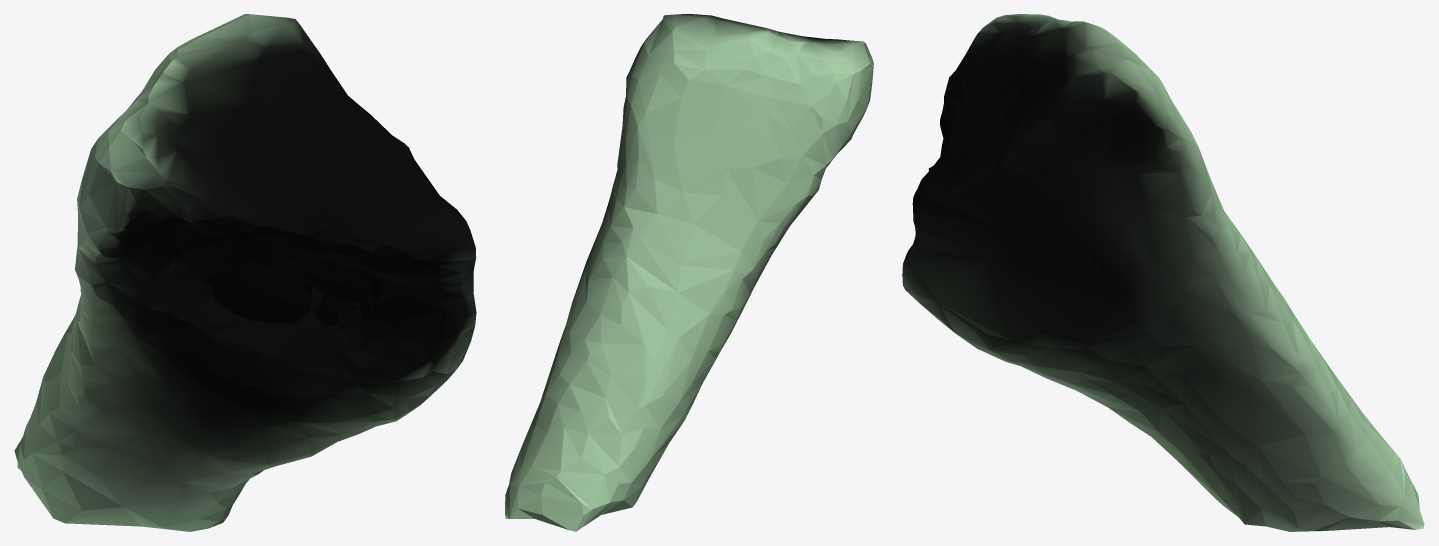
The model's file is Geometry12_lao.dae.
The picture shows the model from 3 angles, left to right: view 1: azimuth 30°, elevation 25°; view 2: azimuth 150°, elevation 25°; view 3: azimuth 270°, elevation 25°; orthographic projection. The views are drawn at different scales.
Visible parts, largest first — view 1: node; view 2: node; view 3: node.
Part boxes in pixels (bbox=[...]): node: bbox=[14, 14, 476, 531]; node: bbox=[505, 14, 873, 531]; node: bbox=[902, 14, 1424, 531].
Size of the model in its own units: 16.89 by 31.02 by 32.36.
